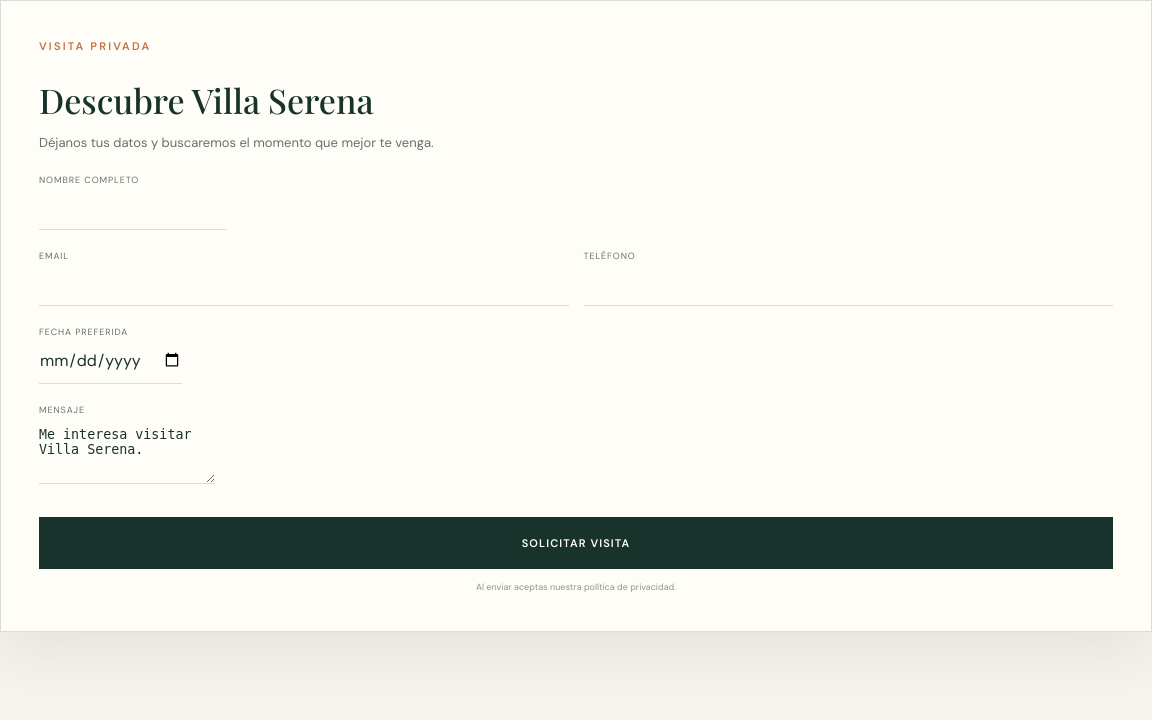
it: VisitForm › muestra errores cuando se envía vacío
Click the button "Solicitar visita" at (576, 543), box [39,517,1113,569]
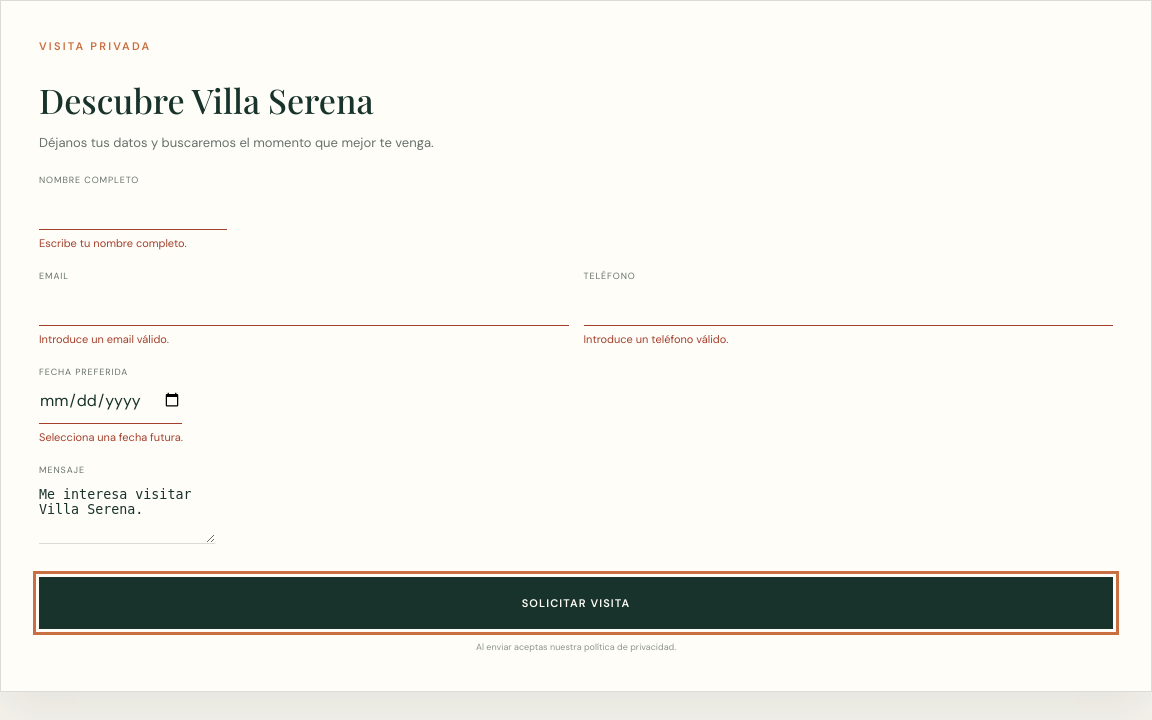
Check: the text "Escribe tu nombre completo." is shown, box [39,236,187,250]
Check: the text "Introduce un email válido." is shown, box [39,332,169,346]
Check: the text "Introduce un teléfono válido." is shown, box [584,332,728,346]
